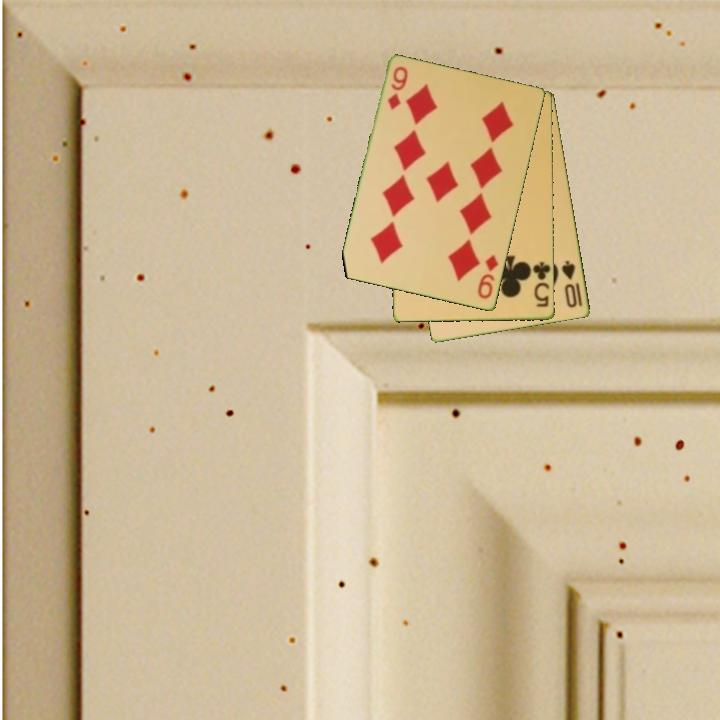10s: (558, 257, 585, 311)
5c: (528, 258, 553, 310)
9d: (474, 251, 501, 302), (384, 63, 411, 113)
